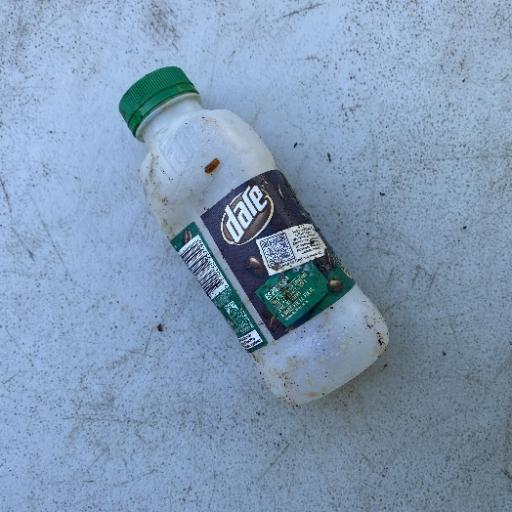Plastic: (116, 64, 392, 408)
